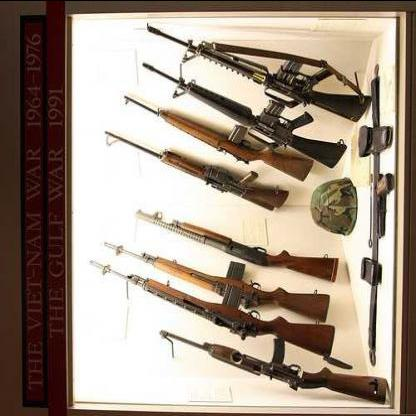rifle: (83, 252, 337, 364), (141, 17, 376, 122)
